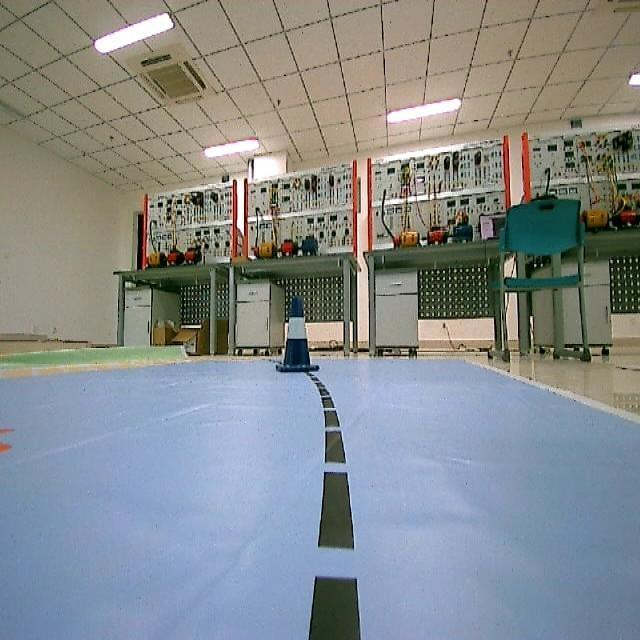obstacle: (269, 291, 323, 378)
